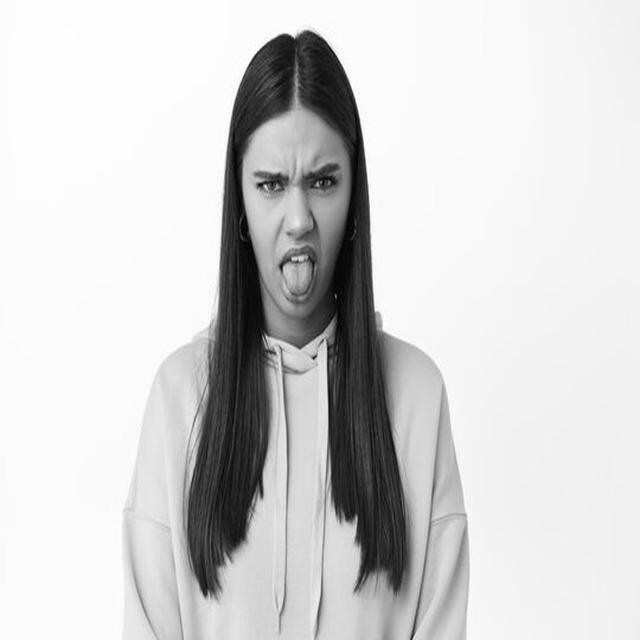Disgust: (240, 111, 355, 320)
